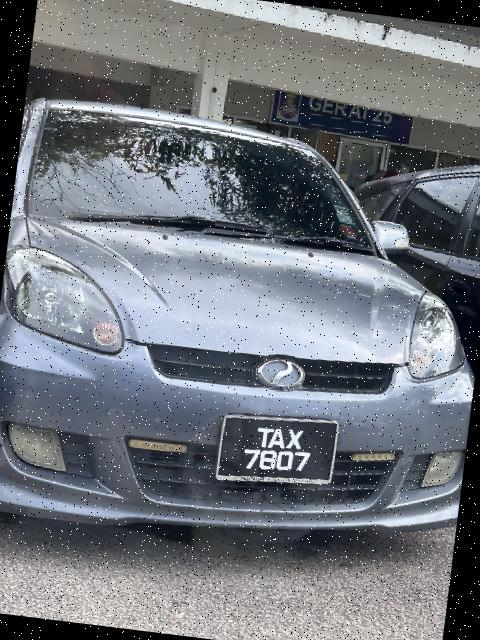License_Plate: (210, 407, 344, 494)
TAX7807: (210, 407, 344, 494)
car: (1, 97, 480, 574)
